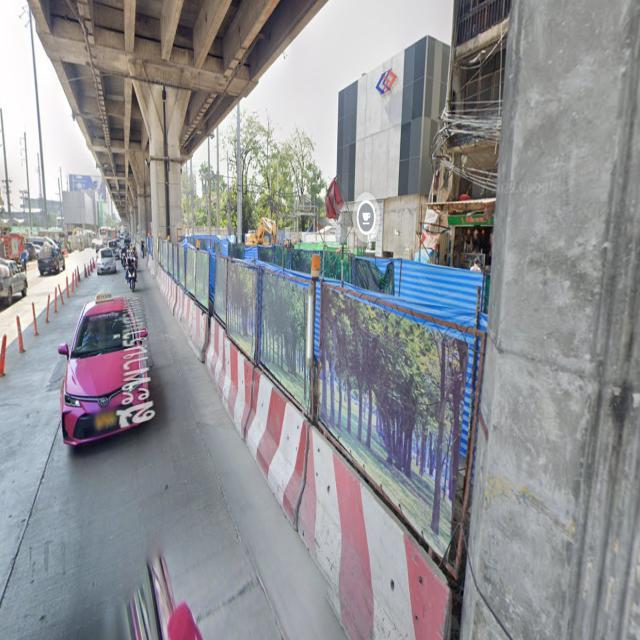fallen_object: (288, 401, 457, 640), (239, 359, 301, 529), (192, 309, 268, 435), (147, 253, 208, 348), (1, 290, 32, 369), (20, 279, 60, 336), (55, 266, 94, 309)
